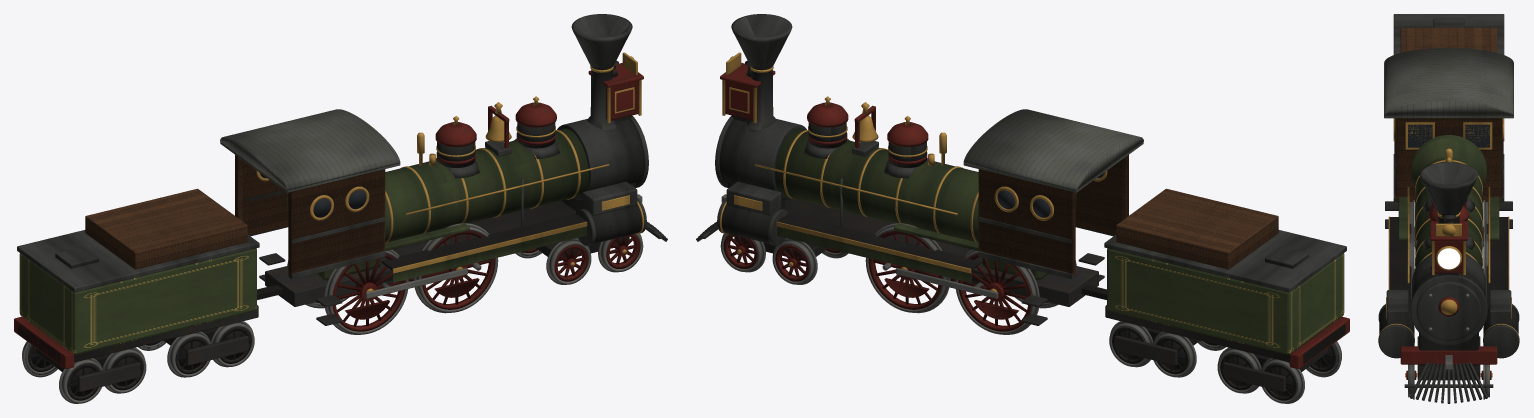
Rendered from loco.glb.
3 renders of one model, left to right at view 1: azimuth 30°, elevation 25°; view 2: azimuth 150°, elevation 25°; view 3: azimuth 270°, elevation 25°, orthographic. The views are drawn at different scales.
Visible parts, largest first — view 1: Tender, Cab, Boiler, Frame, Smokebox, Stack, Driver_R1, Driver_R2, RunBoard_R, Valance_R, Lead_R1, Cylinder_R (+17 smaller); view 2: Tender, Cab, Boiler, Frame, Smokebox, Stack, Driver_L1, Driver_L2, RunBoard_L, Valance_L, Lead_L1, Cylinder_L (+17 smaller); view 3: Cab, Tender, Pilot, SmokeboxDoor, Stack, Boiler, FireboxTop, SmokeboxRing, RunBoard_L, RunBoard_R, Smokebox, CylHeadF_L (+30 smaller).
Part boxes in pixels (x1,y1,x2,y2): Tender: (14,188,259,368); Cab: (220,109,400,279); Boiler: (385,128,588,241); Frame: (265,201,575,306); Smokebox: (557,119,644,199); Stack: (571,14,632,131); Driver_R1: (324,249,408,334); Driver_R2: (413,223,498,313); RunBoard_R: (381,213,586,270); Valance_R: (392,226,586,282); Lead_R1: (546,238,591,284); Cylinder_R: (585,204,642,243); Tender: (1104,188,1349,368); Cab: (963,109,1143,279); Boiler: (775,128,978,241); Frame: (788,201,1098,306); Smokebox: (719,119,806,199); Stack: (731,14,792,131); Driver_L1: (955,249,1039,334); Driver_L2: (865,223,950,313); RunBoard_L: (777,213,982,270); Valance_L: (777,226,971,282); Lead_L1: (772,238,817,284); Cylinder_L: (721,204,778,243); Cab: (1384,47,1513,202); Tender: (1393,14,1504,54); Pilot: (1400,346,1497,403); SmokeboxDoor: (1416,281,1481,340); Stack: (1419,162,1478,269); Boiler: (1415,157,1482,268); FireboxTop: (1411,135,1486,186); SmokeboxRing: (1410,275,1487,345); RunBoard_L: (1486,217,1508,327); RunBoard_R: (1389,217,1411,327); Smokebox: (1412,254,1485,297); CylHeadF_L: (1483,324,1519,358).
Bounding box in the file's own units: 13.04 × 4.71 × 2.7.
12 materials, 9 textured.
